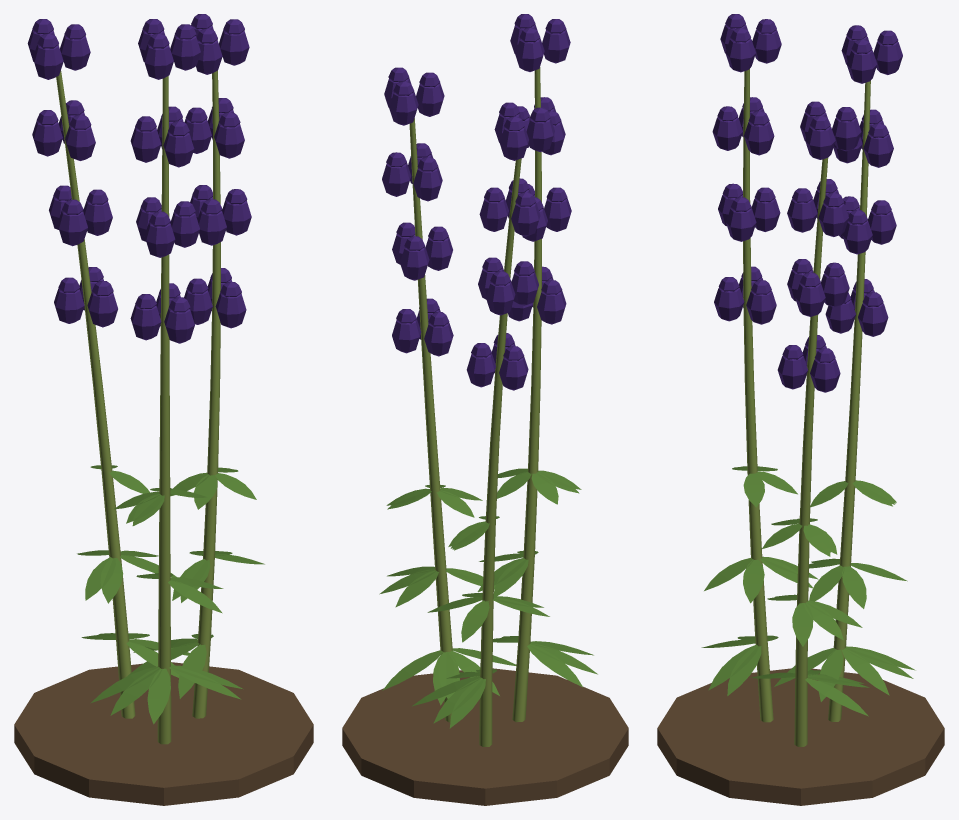
The model's file is eisenhut.glb.
3 renders of one model, left to right at view 1: azimuth 30°, elevation 25°; view 2: azimuth 150°, elevation 25°; view 3: azimuth 270°, elevation 25°, orthographic. The views are drawn at different scales.
Parts seen in each view (by area): view 1: eisenhut; view 2: eisenhut; view 3: eisenhut.
Part boxes in pixels (x1=…): eisenhut: x1=14, y1=14, x2=313, y2=805; eisenhut: x1=342, y1=14, x2=628, y2=805; eisenhut: x1=657, y1=14, x2=944, y2=805.
Bounding box in the file's own units: 0.3 × 0.8219 × 0.3.
